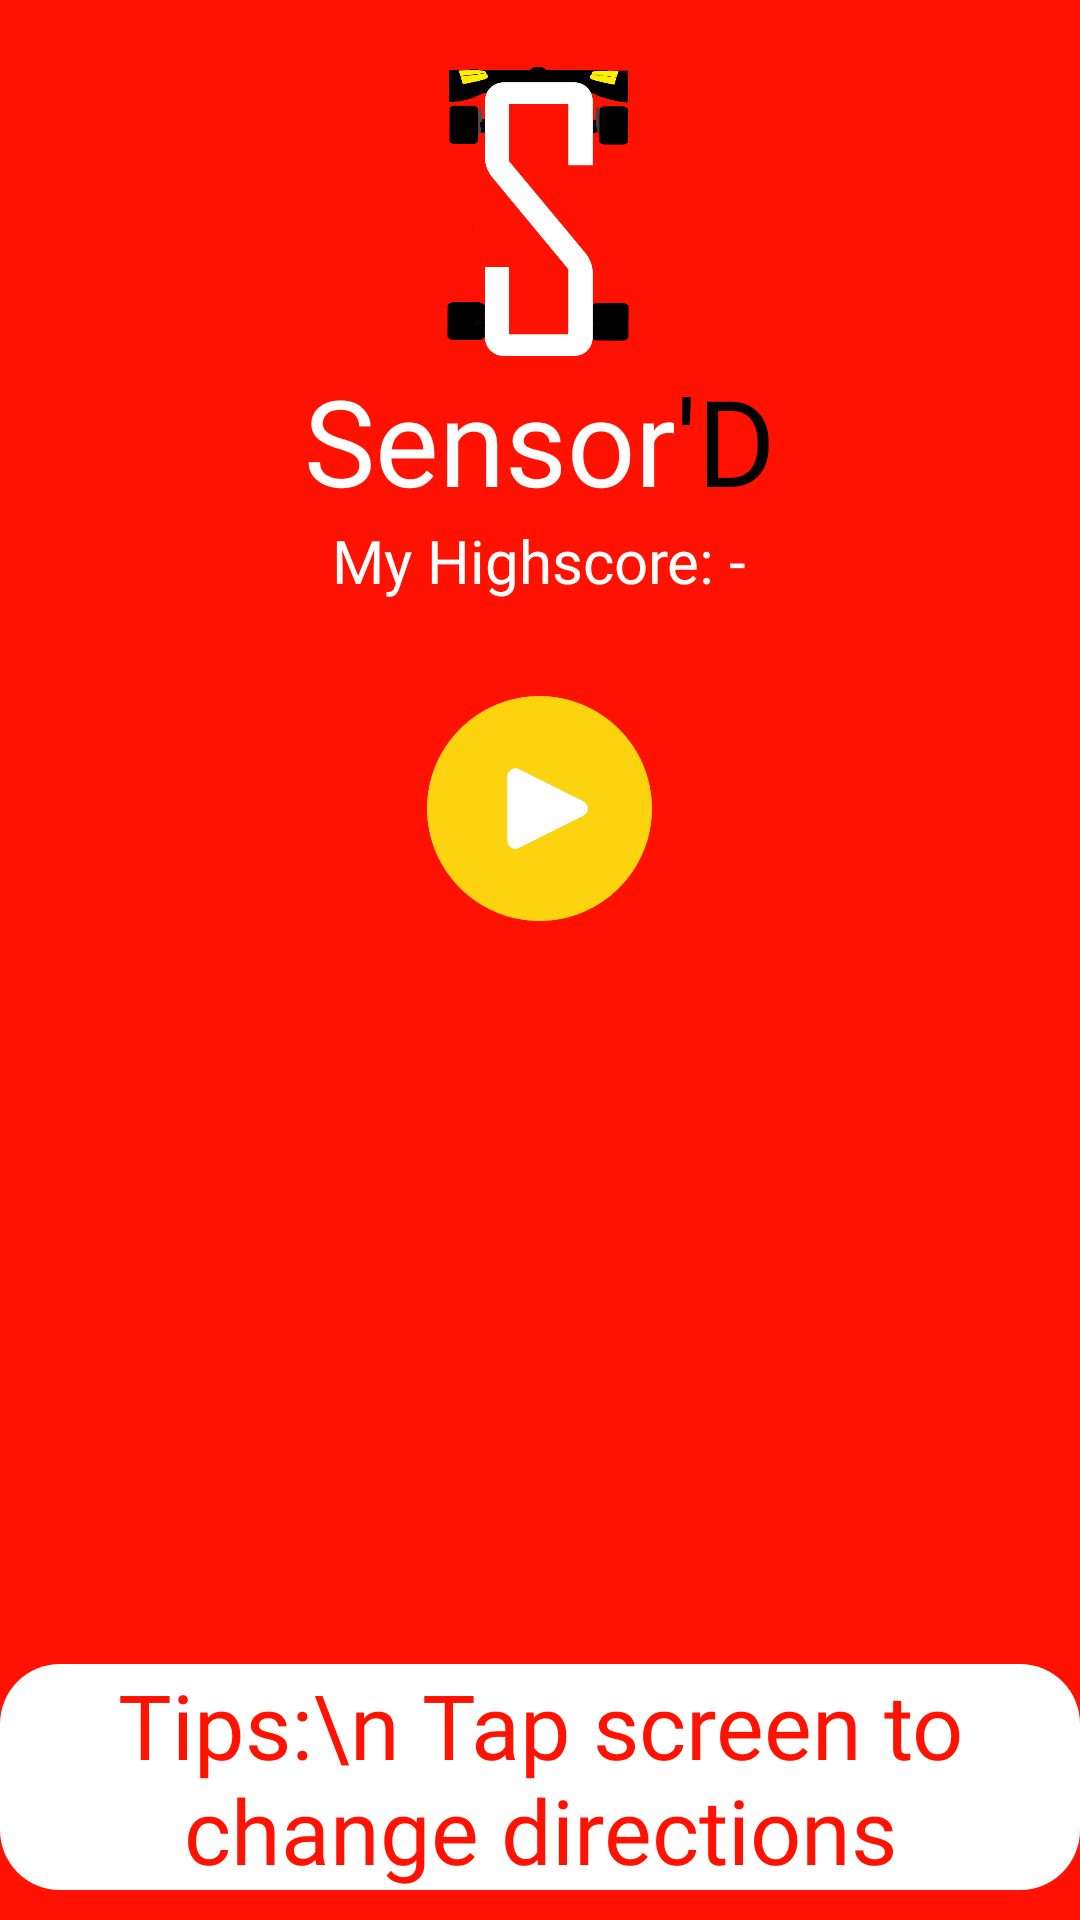

Where to tap for icons on this 1080x1920 app screen, as (x,y):
play: (539,808)
